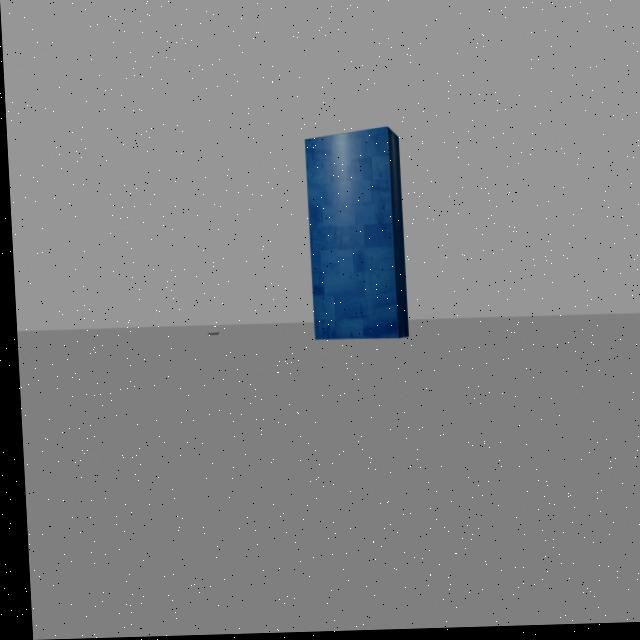bowl: (200, 325, 221, 343)
shelf: (295, 113, 413, 357)
